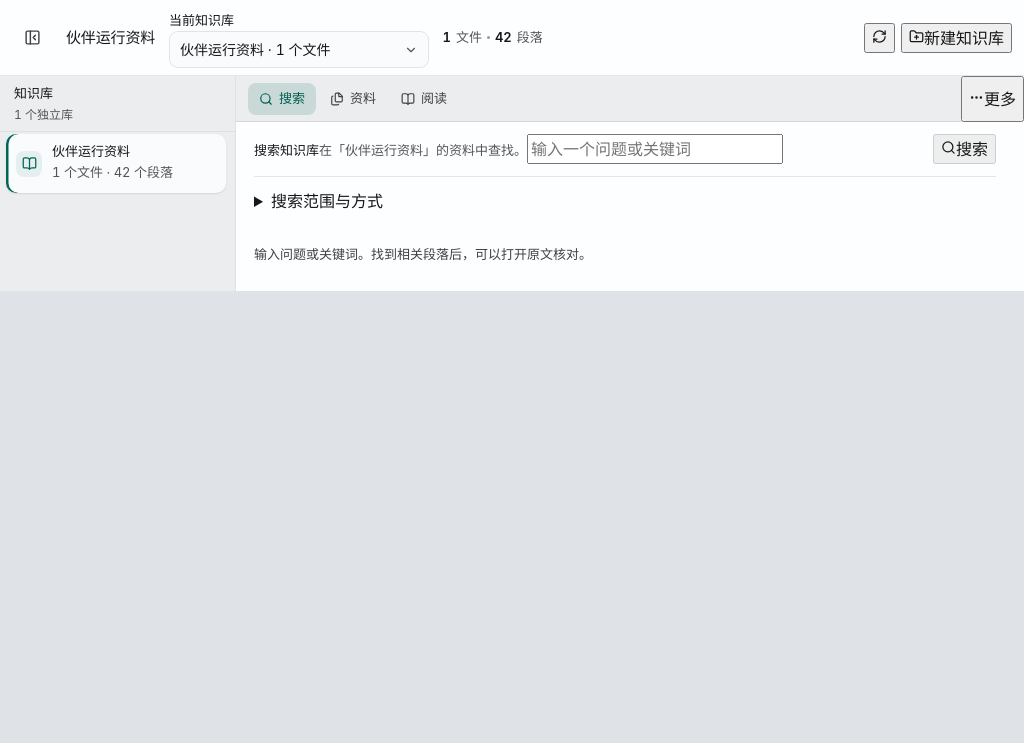
Test: document knowledge library › starts with search and reveals configuration only from the library tools menu
Expected: the field labelled "搜索知识库" is shown, [527, 134, 783, 164]
Expected: the tab "设置" is not shown
Click the button with aria-label "更多知识库工具" at coordinates (992, 99), box [961, 76, 1023, 122]
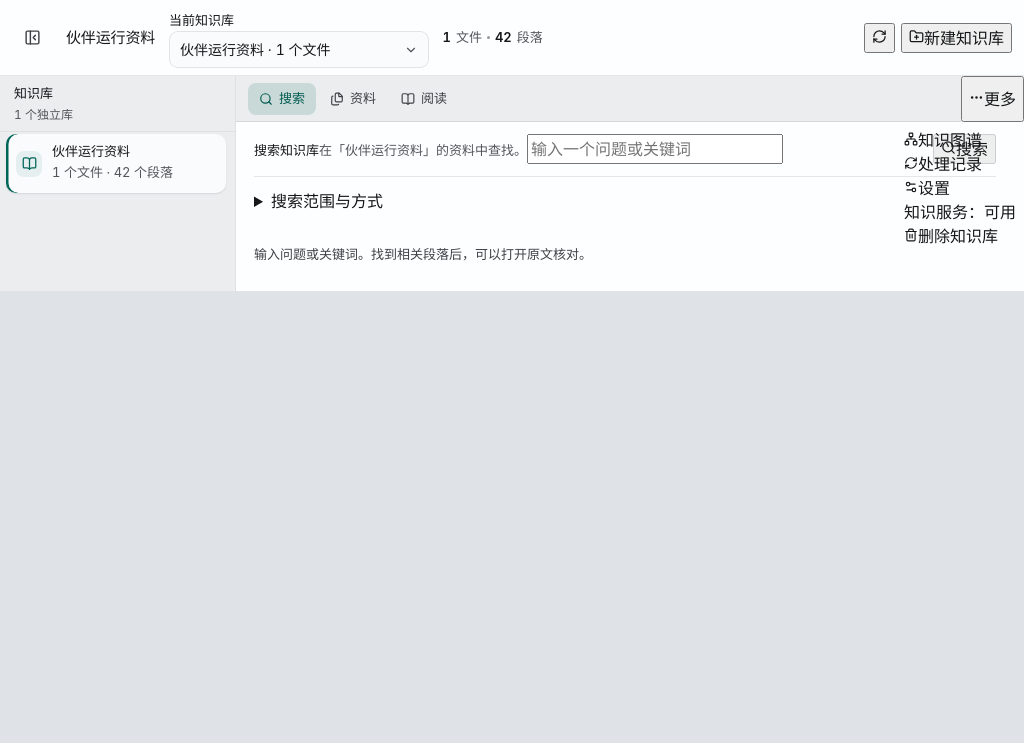
Click the menu item "设置" at coordinates (927, 188), box [904, 178, 950, 198]
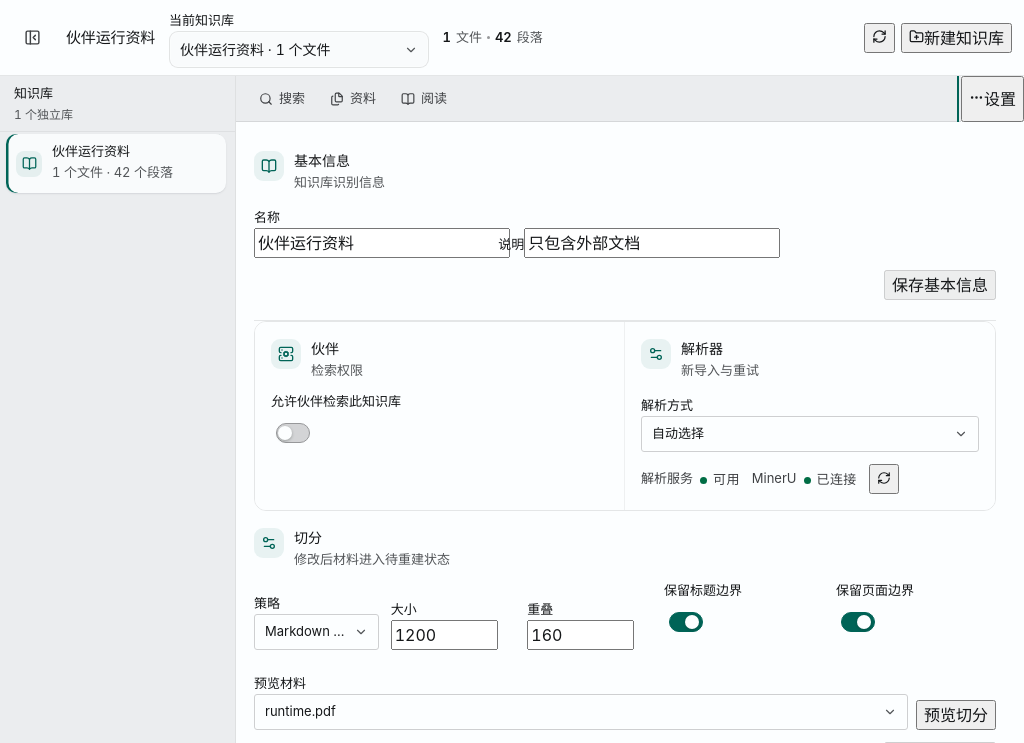
Expected: the button "保存基本信息" is shown, [884, 270, 996, 300]
